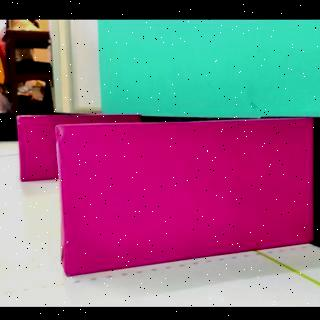xparking: (64, 126, 310, 278), (19, 116, 54, 180)
